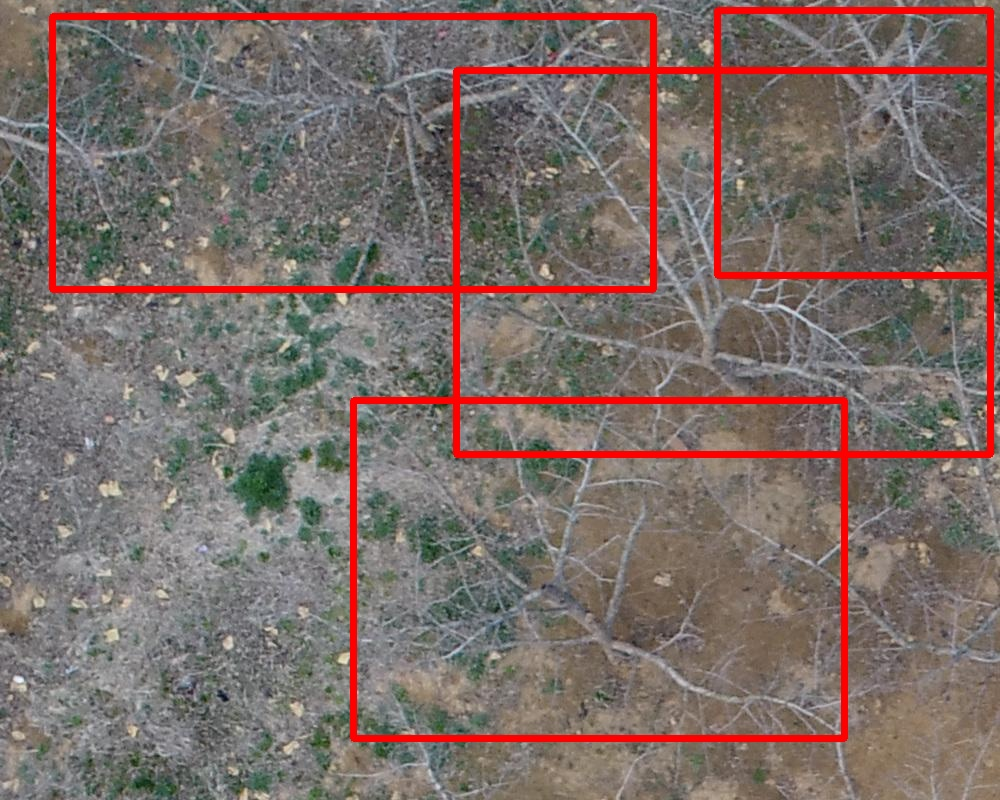apple: (456, 70, 990, 454), (353, 400, 844, 738), (52, 16, 653, 289), (717, 10, 990, 275)
